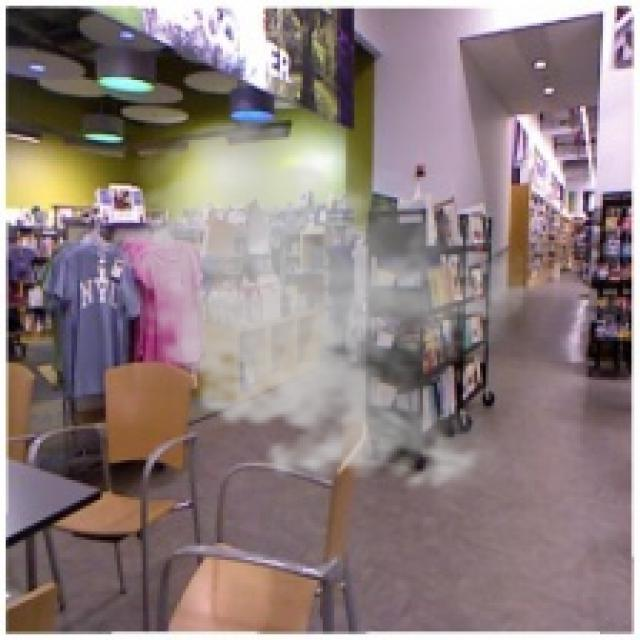smoke: (106, 111, 528, 503)
